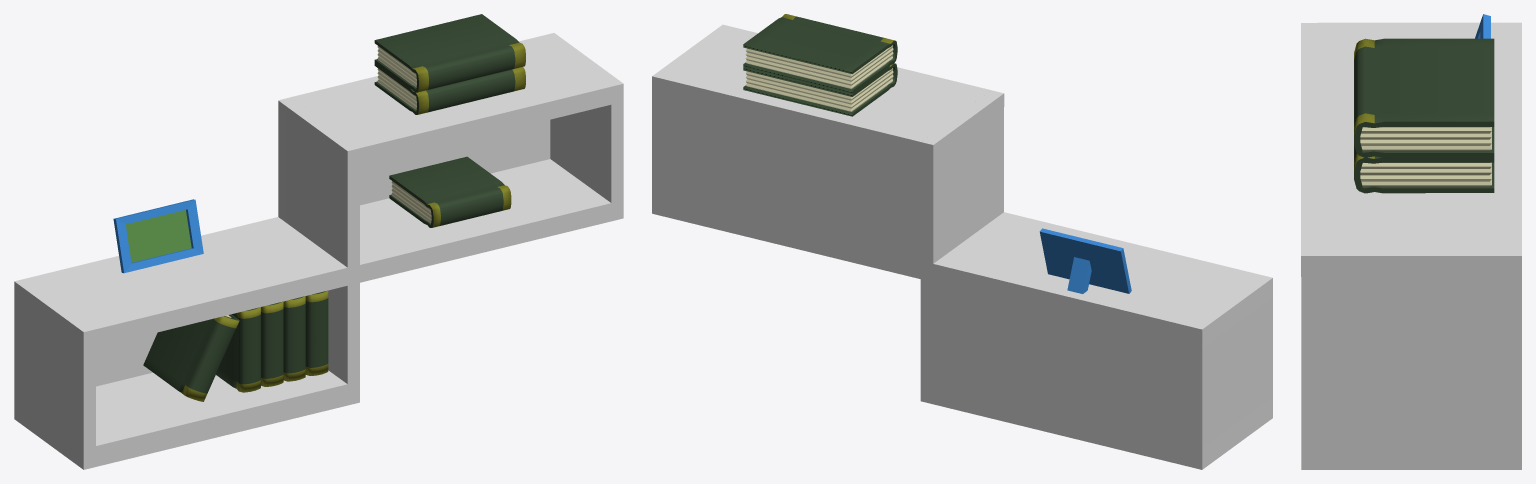
The model's file is shelves_tier4.fbx.
3 views of the same model, side by side, from view 1: azimuth 30°, elevation 25°; view 2: azimuth 150°, elevation 25°; view 3: azimuth 270°, elevation 25° (orthographic). The views are drawn at different scales.
Parts seen in each view (by area): view 1: Cube.003, Cube.009, Cube.007, Cube.006, Cube.010, Cube.008, Cube.005, Cube.001, Cube.002, Cube.004; view 2: Cube.003, Cube.009, Cube.010, Cube.008; view 3: Cube.003, Cube.009, Cube.008, Cube.010.
Boxes of the visible parts, <box> form: Cube.003: <box>14,33,623,469</box>; Cube.009: <box>374,14,525,92</box>; Cube.007: <box>389,156,511,227</box>; Cube.006: <box>143,314,239,401</box>; Cube.010: <box>113,199,203,273</box>; Cube.008: <box>374,63,525,114</box>; Cube.005: <box>216,307,260,392</box>; Cube.001: <box>305,290,328,375</box>; Cube.002: <box>283,296,305,381</box>; Cube.004: <box>261,301,283,386</box>; Cube.003: <box>652,24,1272,469</box>; Cube.009: <box>743,14,897,93</box>; Cube.010: <box>1039,228,1131,293</box>; Cube.008: <box>743,63,897,116</box>; Cube.003: <box>1301,22,1521,469</box>; Cube.009: <box>1354,38,1494,157</box>; Cube.008: <box>1354,144,1494,193</box>; Cube.010: <box>1475,14,1490,38</box>.
Bounding box in the file's own units: 219 × 116 × 48.9.
